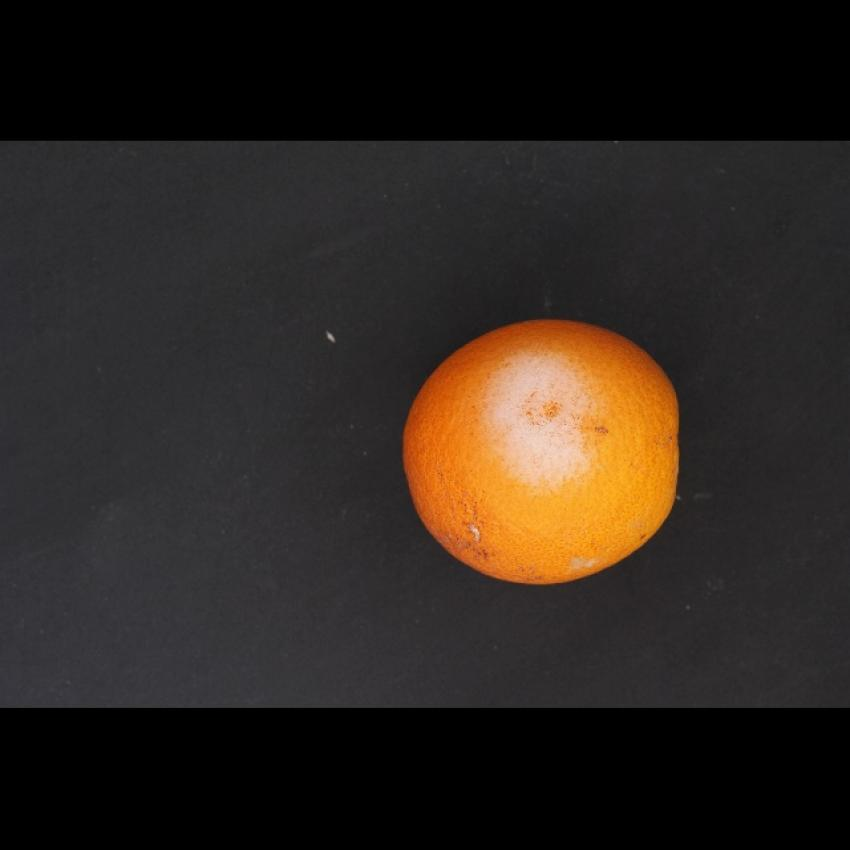Mal estado: (396, 312, 706, 591)
